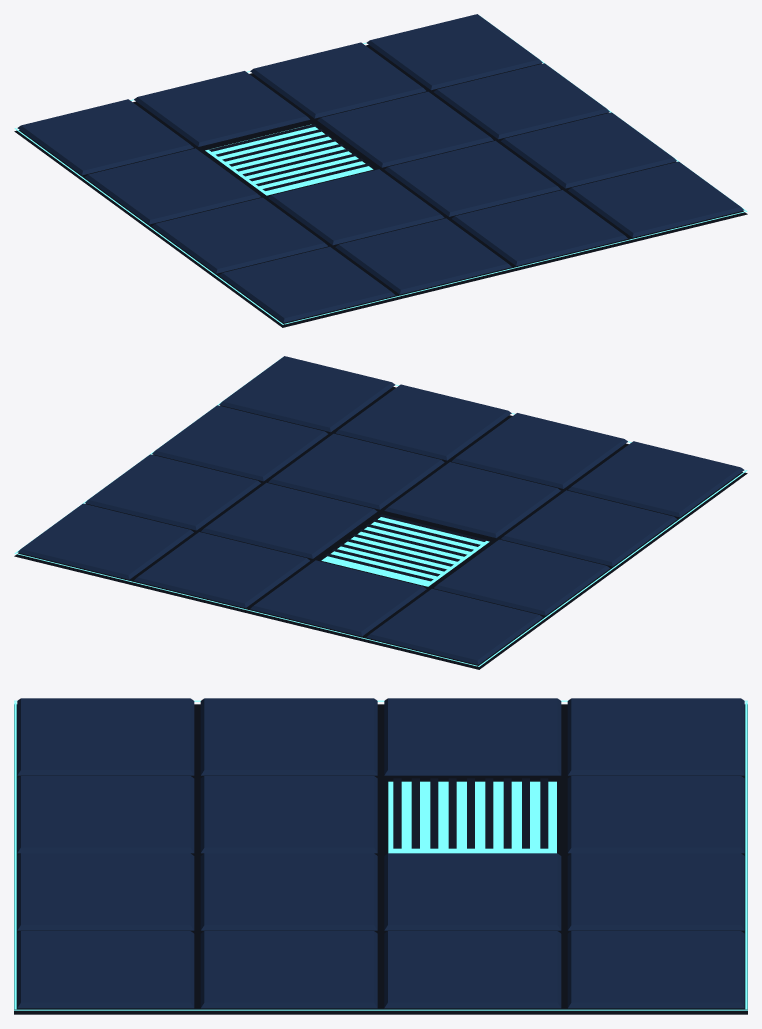
Rendered from Seabed_Vent.fbx.
3 renders of one model, top to bottom at view 1: azimuth 30°, elevation 25°; view 2: azimuth 150°, elevation 25°; view 3: azimuth 270°, elevation 25°, orthographic. The views are drawn at different scales.
Visible parts, largest first — view 1: KIT_Seabed_Vent_Mesh; view 2: KIT_Seabed_Vent_Mesh; view 3: KIT_Seabed_Vent_Mesh.
Part boxes in pixels (x1,y1,x2,y2): KIT_Seabed_Vent_Mesh: (14, 14, 747, 327); KIT_Seabed_Vent_Mesh: (14, 356, 747, 669); KIT_Seabed_Vent_Mesh: (14, 698, 747, 1014).
Bounding box in the file's own units: 4 × 0.055 × 4.
